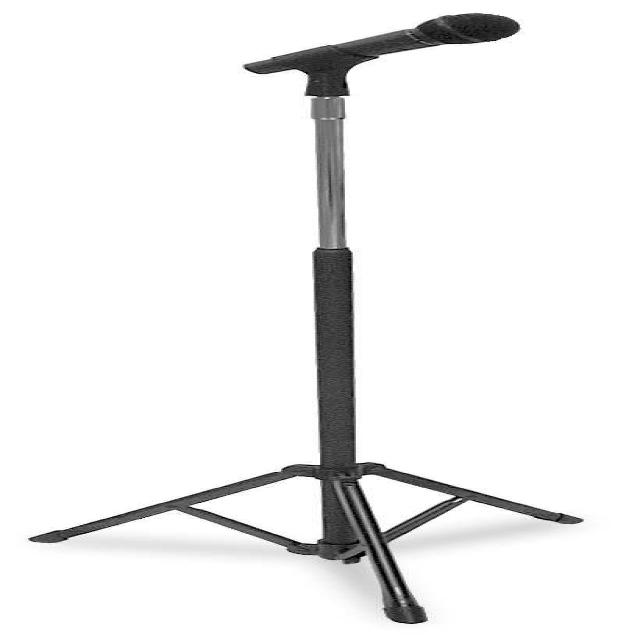microphone: (247, 12, 528, 78)
